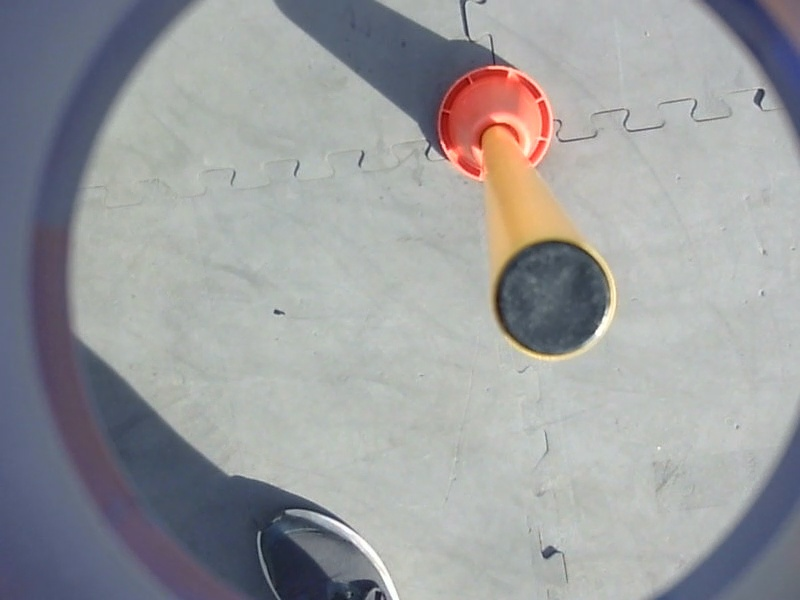tip: (484, 232, 619, 367)
